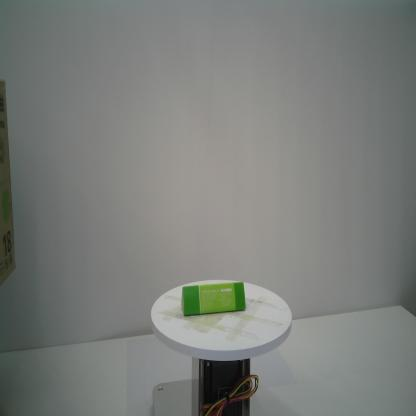Stationery: (180, 280, 246, 317)
